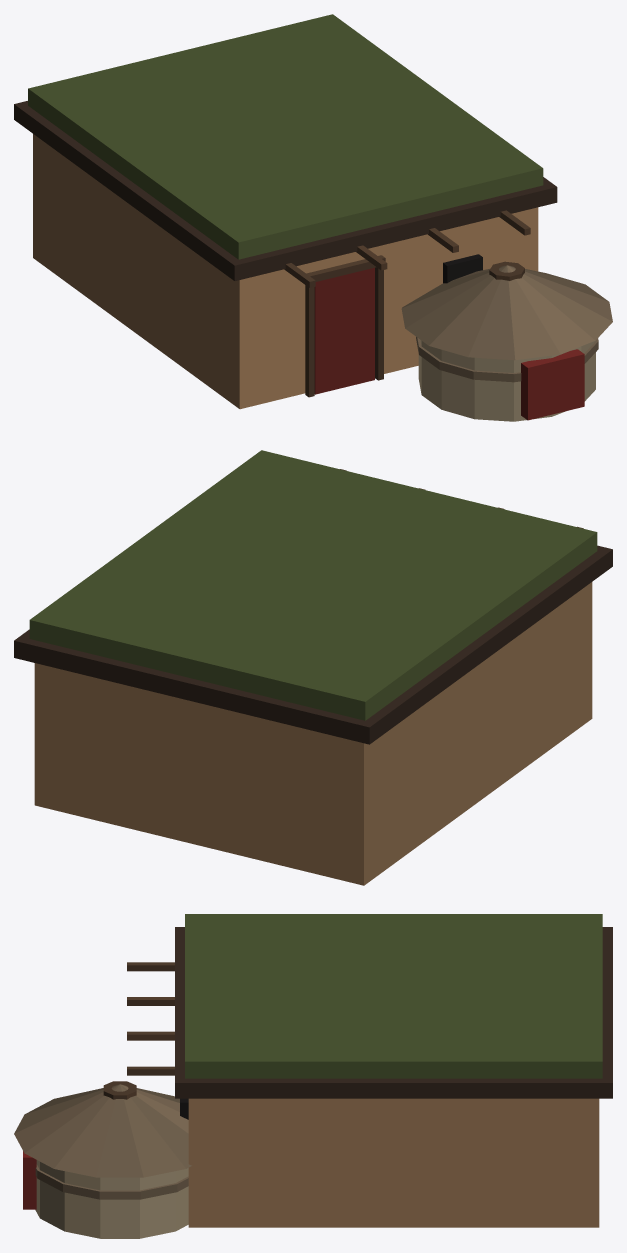
Rendered from steppe_house.glb.
3 views of the same model, one above another, from view 1: azimuth 30°, elevation 25°; view 2: azimuth 150°, elevation 25°; view 3: azimuth 270°, elevation 25° (orthographic). The views are drawn at different scales.
Parts seen in each view (by area): view 1: steppe_house; view 2: steppe_house; view 3: steppe_house.
Boxes of the visible parts, x1,y1,x2,y2 form: steppe_house: [14, 14, 612, 421]; steppe_house: [14, 450, 612, 885]; steppe_house: [14, 914, 612, 1238].
Size of the model in its own units: 5.61 by 2.8 by 8.75.
Materials: 1 (1 with a texture image).
